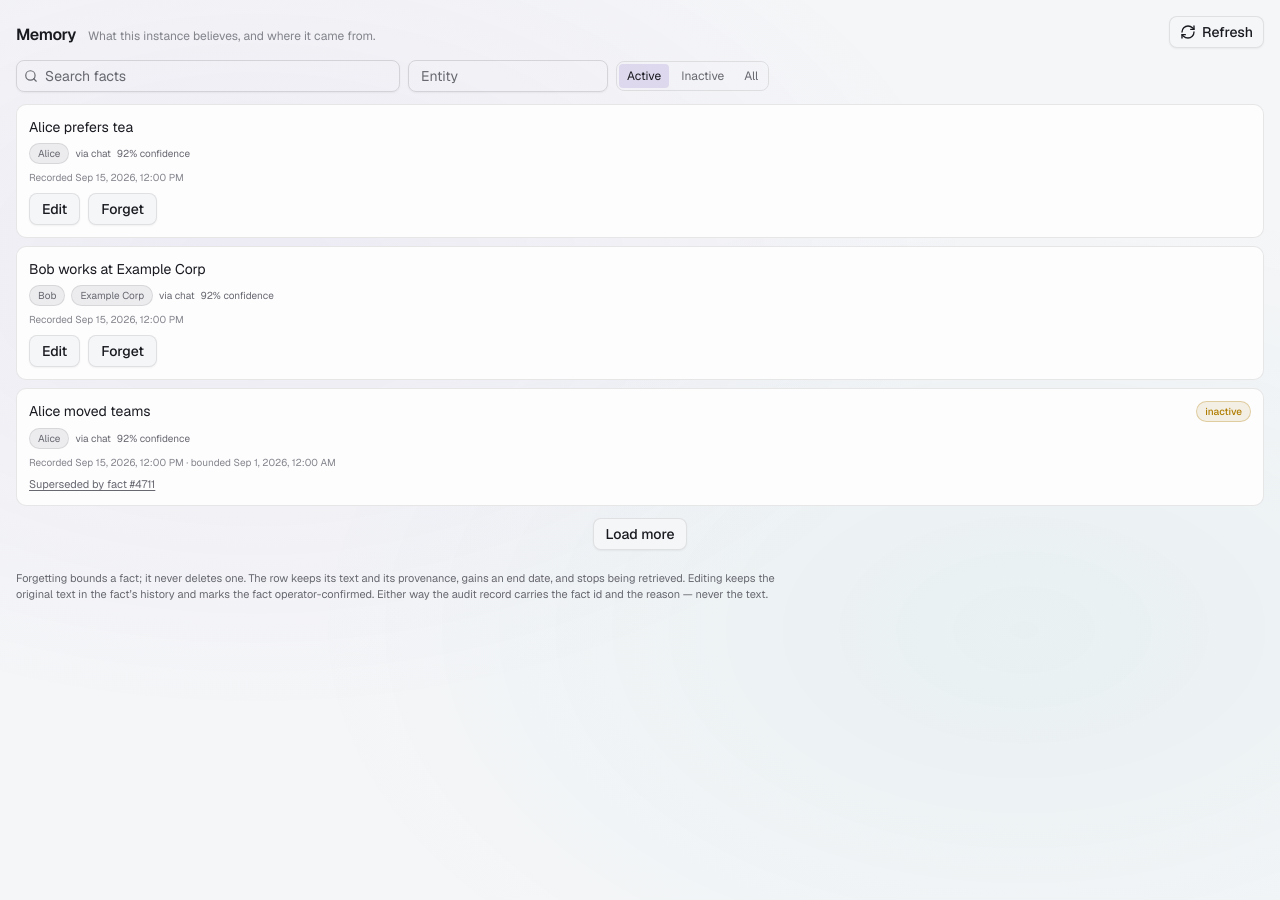
Test: Observe › Memory › says a short fact was not scanned rather than warning about the blocks named
Expected: the element with test id "memory-fact-4711" is shown, left=16, top=104, right=1264, bottom=238
Click the button with test id "memory-forget-4711" at (123,209), box left=88, top=193, right=157, bottom=225
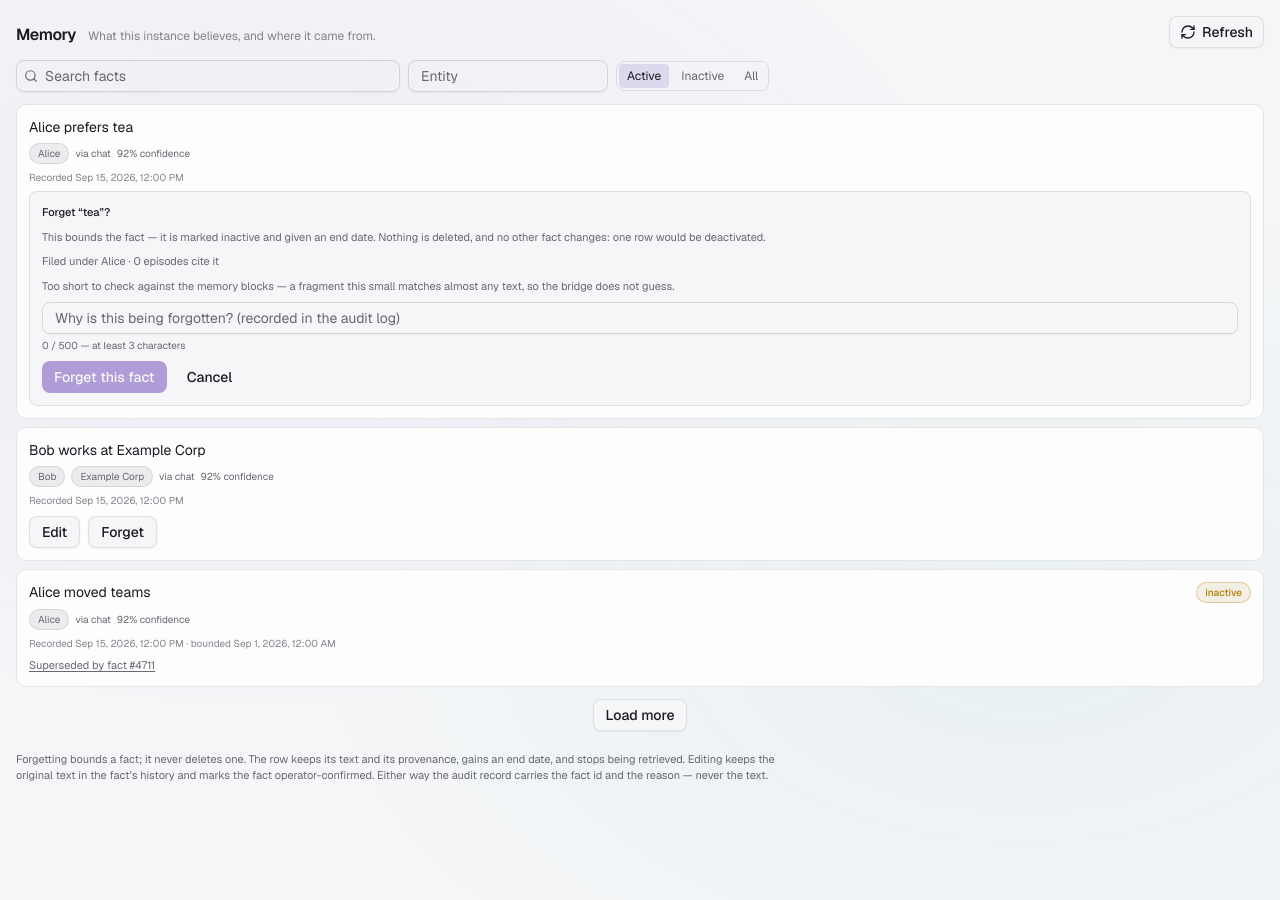
Result: the text with test id "memory-blocks-unscanned-4711" shows "Too short" at left=42, top=278, right=674, bottom=292
